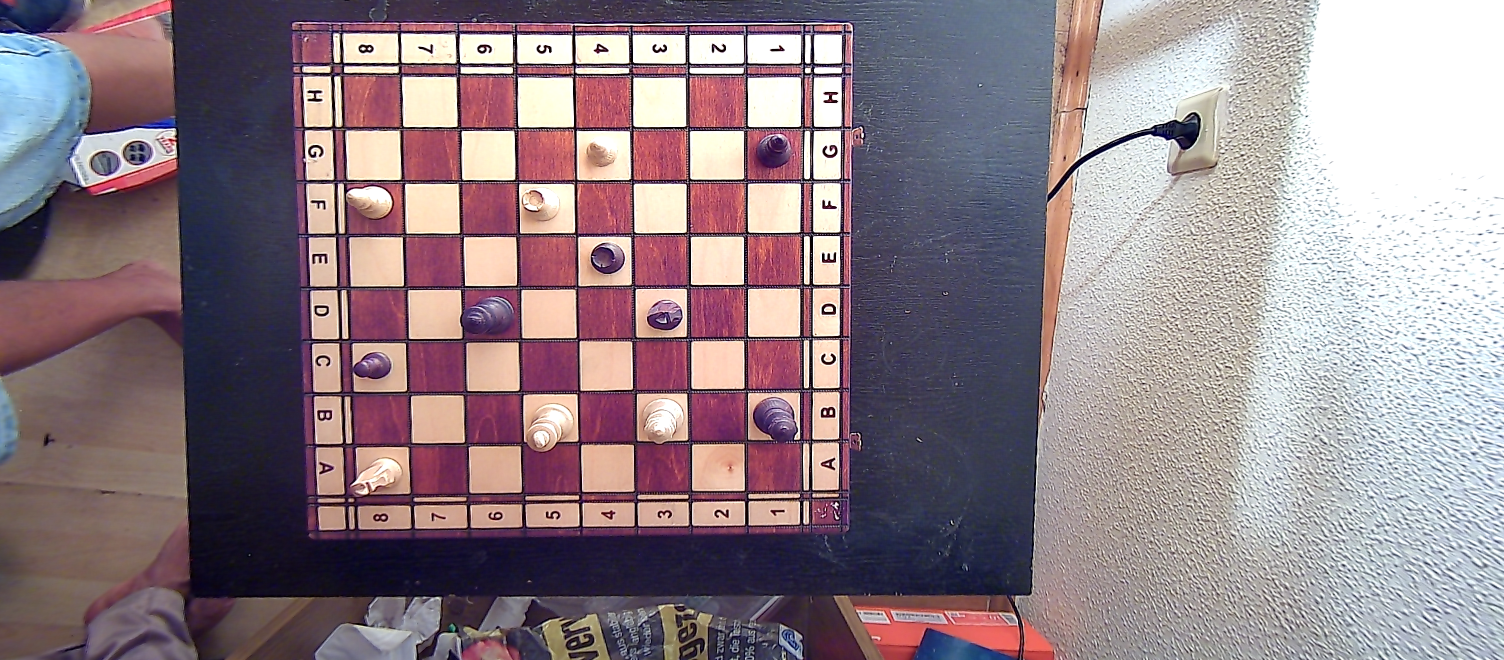black-bishop: (751, 128, 795, 172)
black-king: (457, 292, 515, 335)
black-knight: (645, 295, 683, 336)
black-pawn: (350, 347, 393, 383)
black-queen: (749, 395, 800, 443)
black-rook: (587, 239, 627, 276)
white-bishop: (343, 182, 395, 222)
white-king: (524, 399, 573, 454)
white-knight: (345, 457, 404, 498)
white-pawn: (580, 134, 622, 169)
white-queen: (639, 396, 684, 446)
white-rook: (518, 185, 561, 222)
